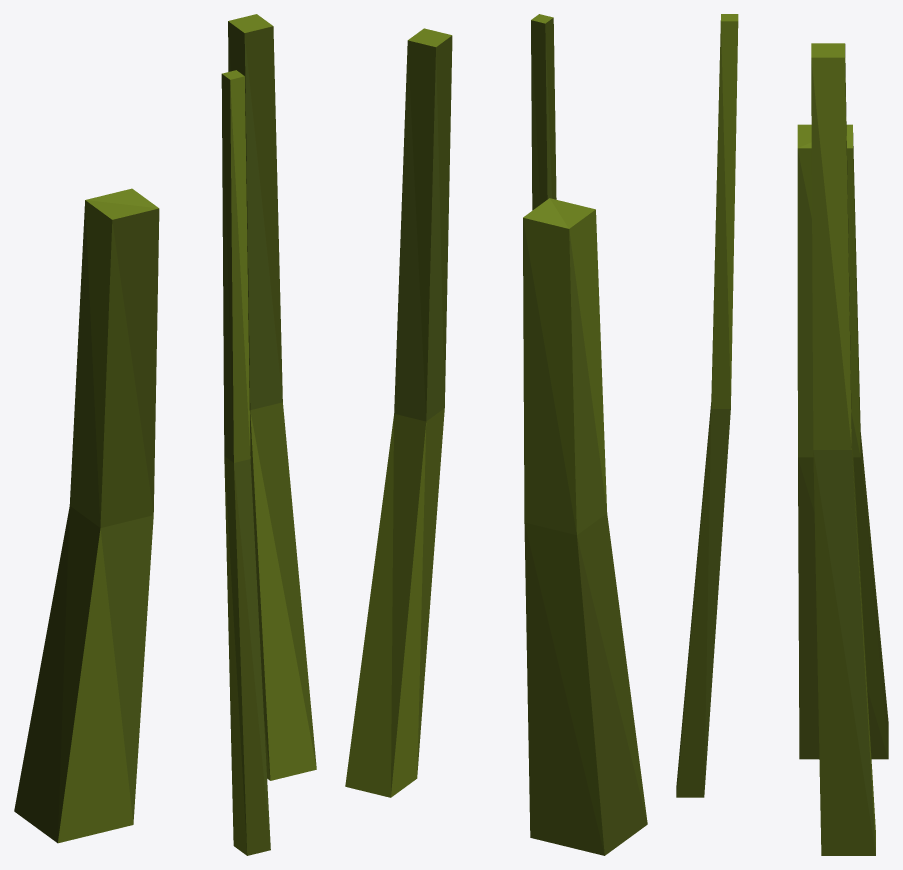
File: angular_grass_c_low.glb
3 views of the same model, side by side, from view 1: azimuth 30°, elevation 25°; view 2: azimuth 150°, elevation 25°; view 3: azimuth 270°, elevation 25° (orthographic). The views are drawn at different scales.
Size of the model in its own units: 0.2046 by 0.55 by 0.1365.
